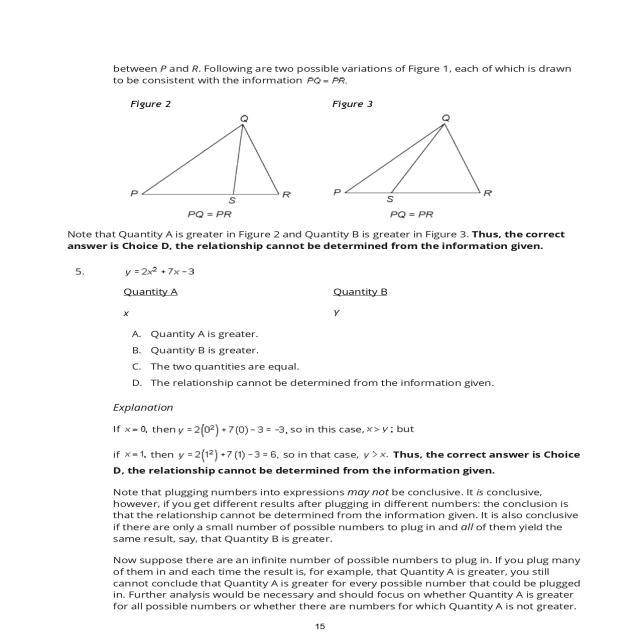Answer_Block: (44, 326, 616, 394)
Description: (44, 398, 616, 618)
Instruction: (44, 50, 616, 250)
Question_Answer_Block: (44, 252, 616, 393)
Question_Block: (44, 252, 616, 322)
Question_Paper_Area: (44, 50, 616, 619)
